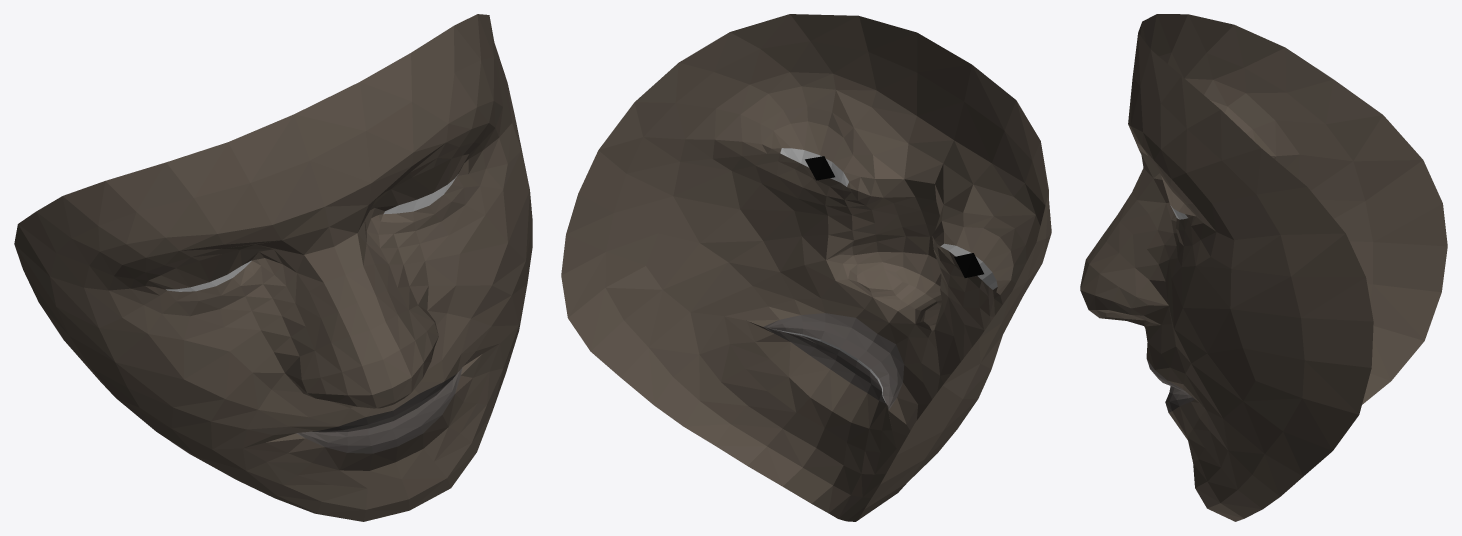
The model's file is frame_00233.obj.
The picture shows the model from 3 angles, left to right: view 1: azimuth 30°, elevation 25°; view 2: azimuth 150°, elevation 25°; view 3: azimuth 270°, elevation 25°; orthographic projection. The views are drawn at different scales.
Visible parts, largest first — view 1: face_model_with_iris; view 2: face_model_with_iris; view 3: face_model_with_iris.
Boxes of the visible parts, x1,y1,x2,y2 form: face_model_with_iris: (14, 14, 532, 521); face_model_with_iris: (561, 14, 1051, 521); face_model_with_iris: (1080, 14, 1447, 521).
Size of the model in its own units: 0.5598 by 0.5595 by 0.41.
